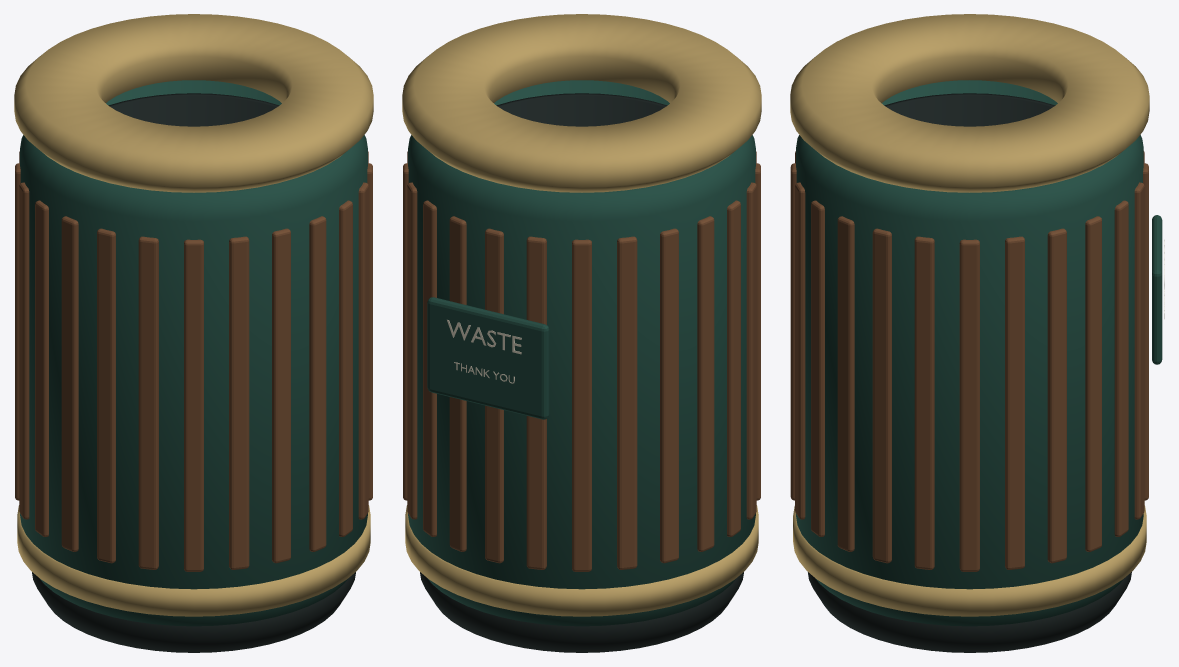
File: mall-trash-bin.glb
3 views of the same model, side by side, from view 1: azimuth 30°, elevation 25°; view 2: azimuth 150°, elevation 25°; view 3: azimuth 270°, elevation 25° (orthographic).
Visible parts, largest first — view 1: mall-trash-bin; view 2: mall-trash-bin; view 3: mall-trash-bin.
Part boxes in pixels (x1,y1,x2,y2): mall-trash-bin: (14,14,373,652); mall-trash-bin: (402,14,761,652); mall-trash-bin: (790,14,1164,652).
Size of the model in its own units: 0.62 by 0.96 by 0.6463.
